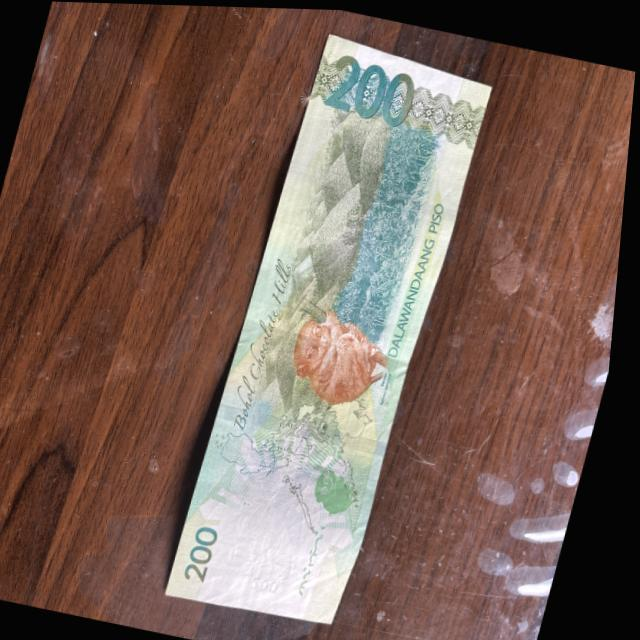200_tarsier: (276, 284, 415, 417)
200_tarsier_watermark: (312, 444, 380, 523)
value_watermark: (253, 570, 294, 599)
